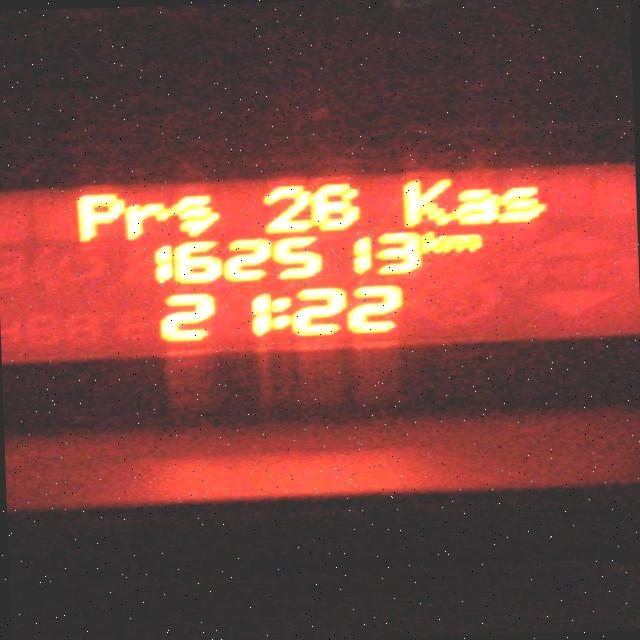odometer: (0, 156, 640, 364)
